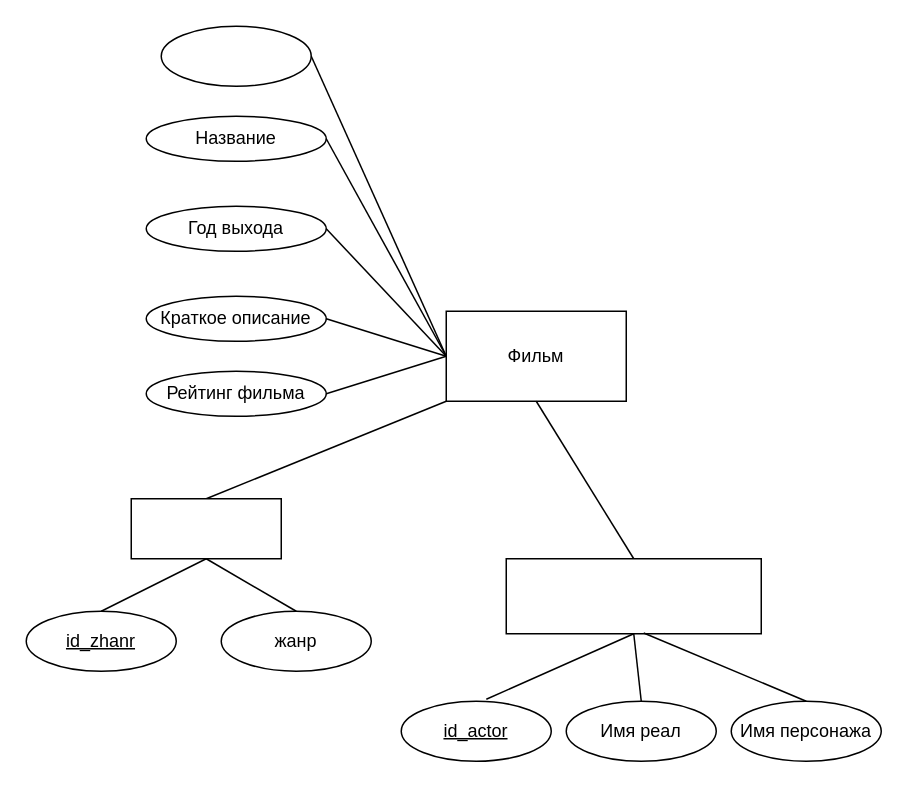
Some shapes in this 908 by 788 pixel diagram are drawn without their labels. The shapes that lost their labels are listed below. From the top down, each one's centre as x and y in pixels, then its label:
At point 235,55: "id_film".
At point 205,528: "Жанр фильма".
At point 633,595: "Список актеров сыгравших в фильме ( с именем персонажа)".
